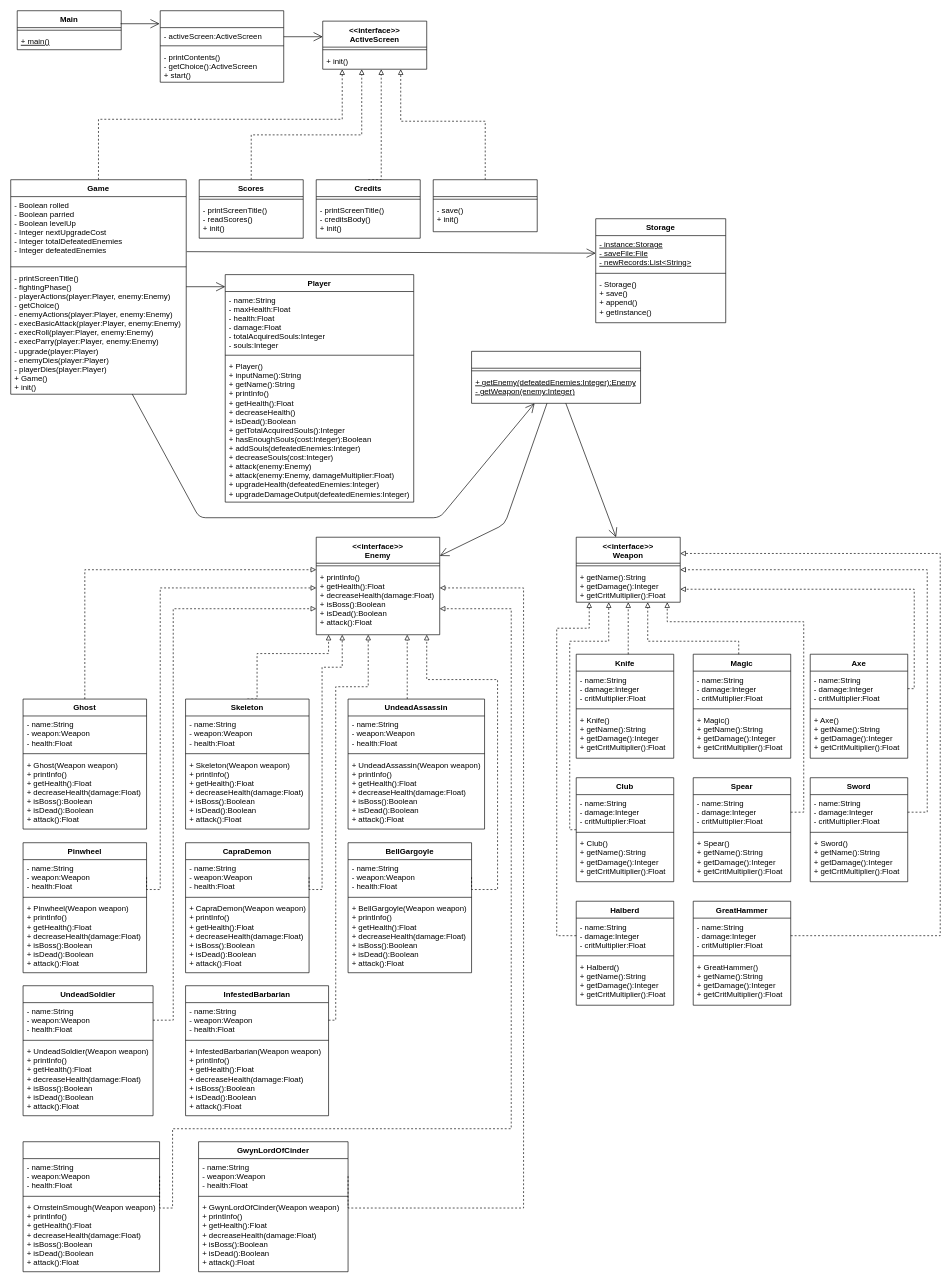
Image size: 951x1282. Some labels were removed from this diagram. Here are the shapes that lost their labels. From the top down, the box of each, then its label:
(160, 10, 284, 82): MainMenu
(433, 179, 537, 232): Exit
(471, 351, 641, 403): Creator
(22, 1141, 160, 1272): OnsteinSmough
